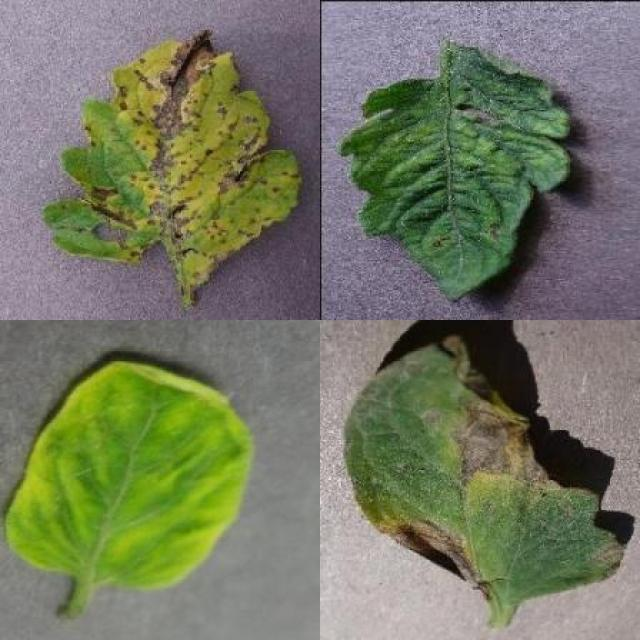Early Blight: (346, 335, 625, 602)
Mosaic Virus: (336, 46, 570, 304)
Septoria: (46, 25, 303, 288)
Yellow Leaf Curl Virus: (5, 356, 254, 594)
